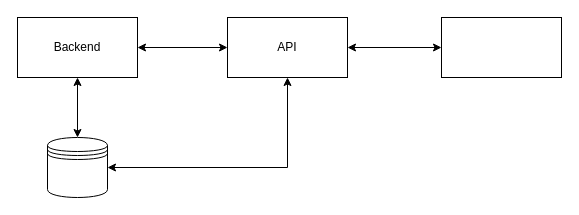
Image size: 579x215. Some labels were removed from this diagram. The centre of each missing label's shape, as x and y in pixels:
"Database" belongs at (x=77, y=167).
"Frontend" belongs at (x=501, y=47).
